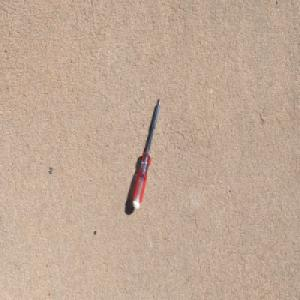Screwdriver: (131, 94, 162, 210)
